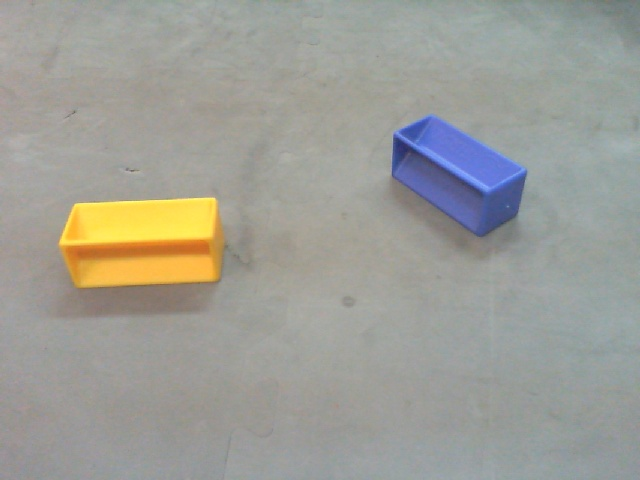BlueSample: (386, 111, 527, 237)
YellowSample: (55, 195, 227, 289)
